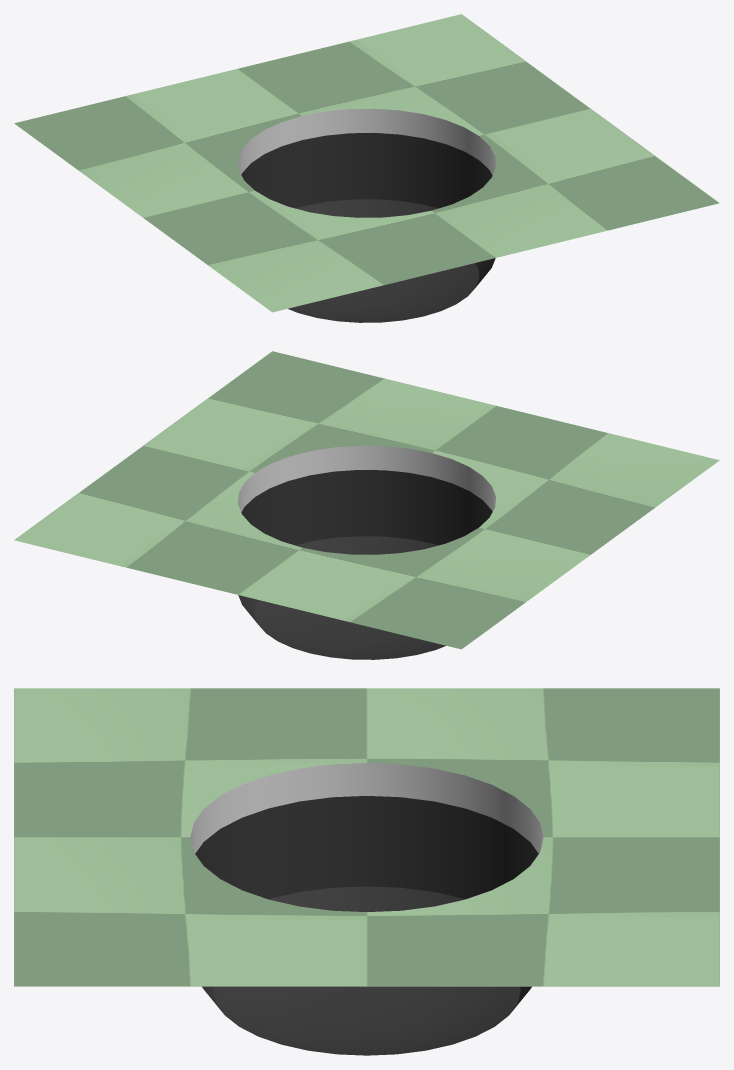
Rendered from Cup.fbx.
3 views of the same model, one above another, from view 1: azimuth 30°, elevation 25°; view 2: azimuth 150°, elevation 25°; view 3: azimuth 270°, elevation 25° (orthographic). The views are drawn at different scales.
Parts seen in each view (by area): view 1: Cup; view 2: Cup; view 3: Cup.
Part boxes in pixels (x1,y1,x2,y2): Cup: (14,14,719,322); Cup: (14,351,719,659); Cup: (14,688,719,1055).
Bounding box in the file's own units: 200 × 53.65 × 200.
